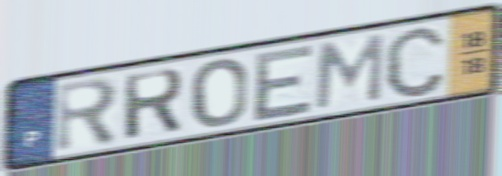C: (382, 23, 448, 101)
E: (250, 41, 318, 125)
M: (312, 31, 387, 112)
O: (188, 56, 249, 130)
R: (54, 74, 122, 156), (121, 65, 187, 143)
